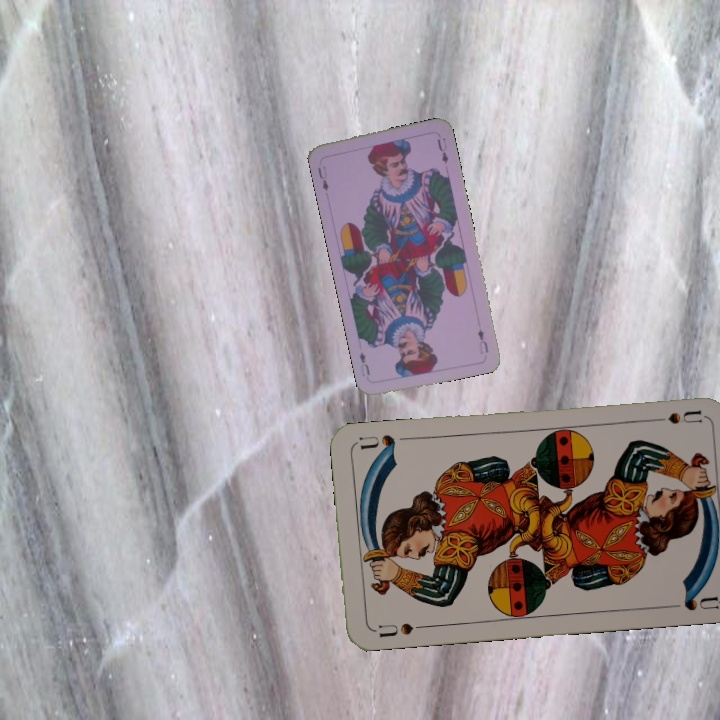EU: (314, 162, 331, 194), (474, 325, 491, 356)
SU: (369, 619, 429, 640), (644, 406, 703, 426)
